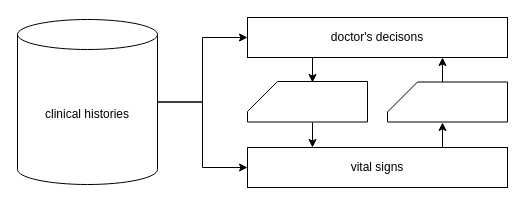
Image size: 525x205. Some labels were removed from this diagram. The centre of each missing label's shape, as x and y in pixels:
"anatomical laws" belongs at (x=447, y=101).
"clinical protocols" belongs at (x=307, y=101).
